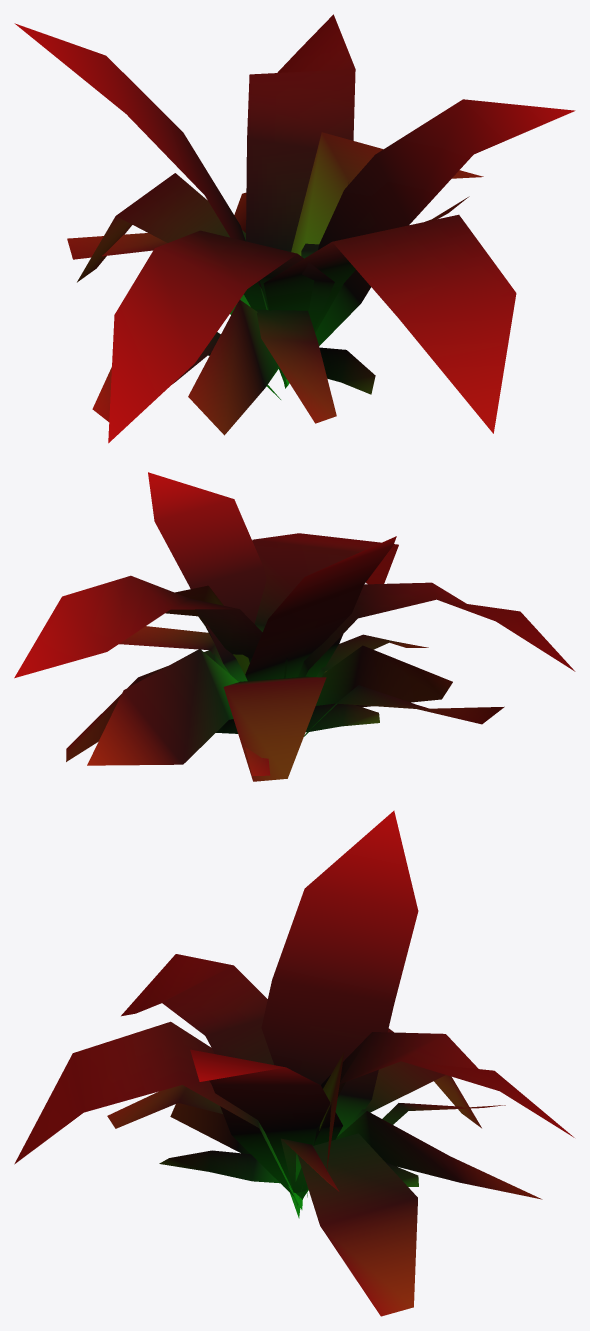
The model's file is fern_1.fbx.
3 renders of one model, top to bottom at view 1: azimuth 30°, elevation 25°; view 2: azimuth 150°, elevation 25°; view 3: azimuth 270°, elevation 25°, orthographic. The views are drawn at different scales.
Visible parts, largest first — view 1: _420b_Var1_LOD3; view 2: _420b_Var1_LOD3; view 3: _420b_Var1_LOD3.
Boxes of the visible parts, x1,y1,x2,y2 form: _420b_Var1_LOD3: [14, 14, 575, 443]; _420b_Var1_LOD3: [14, 472, 575, 781]; _420b_Var1_LOD3: [14, 810, 574, 1316].
Size of the model in its own units: 65.65 by 47.92 by 74.66.
